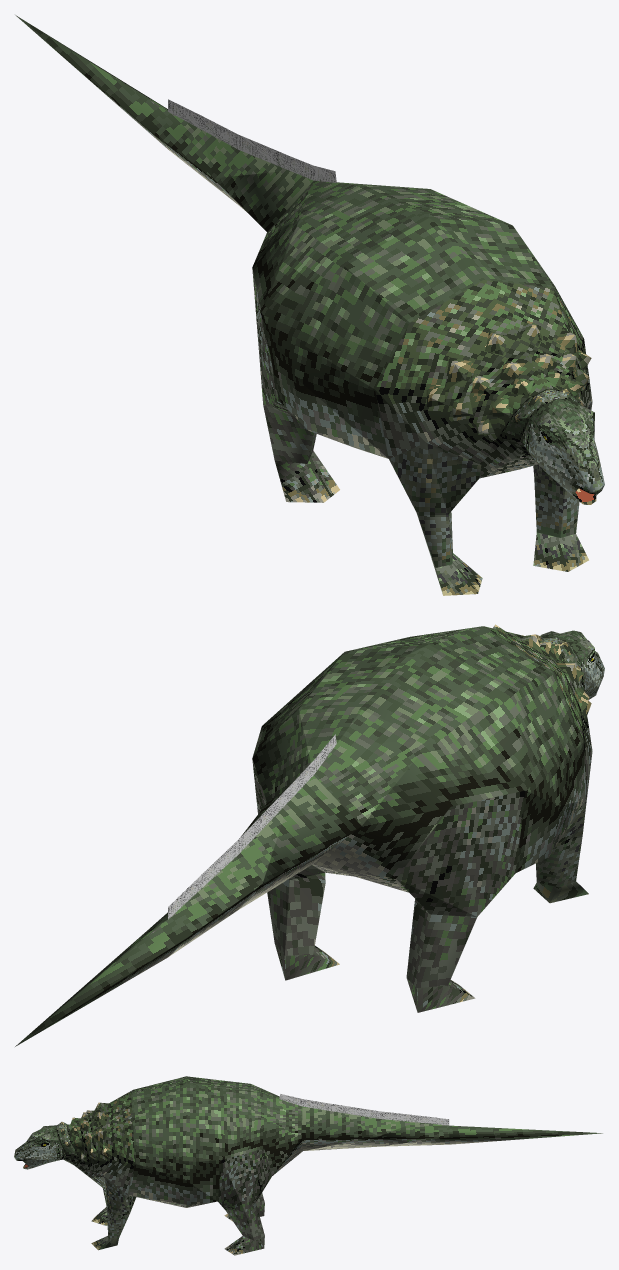
File: nodosaurus.glb
3 views of the same model, one above another, from view 1: azimuth 30°, elevation 25°; view 2: azimuth 150°, elevation 25°; view 3: azimuth 270°, elevation 25° (orthographic). The views are drawn at different scales.
Parts seen in each view (by area): view 1: Object_5, Object_3, Object_2, Object_4; view 2: Object_5, Object_3, Object_2, Object_4; view 3: Object_5, Object_3, Object_2, Object_4.
Boxes of the visible parts, box(x1,y1,x2,y2) form: Object_5: box(15, 15, 582, 458); Object_3: box(252, 268, 596, 504); Object_2: box(389, 388, 604, 595); Object_4: box(168, 99, 336, 182); Object_5: box(15, 626, 585, 1046); Object_3: box(252, 624, 592, 1012); Object_2: box(533, 630, 604, 903); Object_4: box(168, 734, 336, 919); Object_5: box(127, 1076, 602, 1207); Object_3: box(23, 1090, 271, 1255); Object_2: box(14, 1122, 136, 1250); Object_4: box(279, 1094, 449, 1125).
Size of the model in its own units: 5.76 by 6.17 by 22.14.
Materials: 4 (3 with a texture image).
